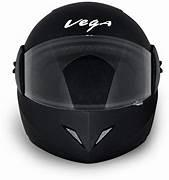Helmet: (14, 2, 157, 162)
